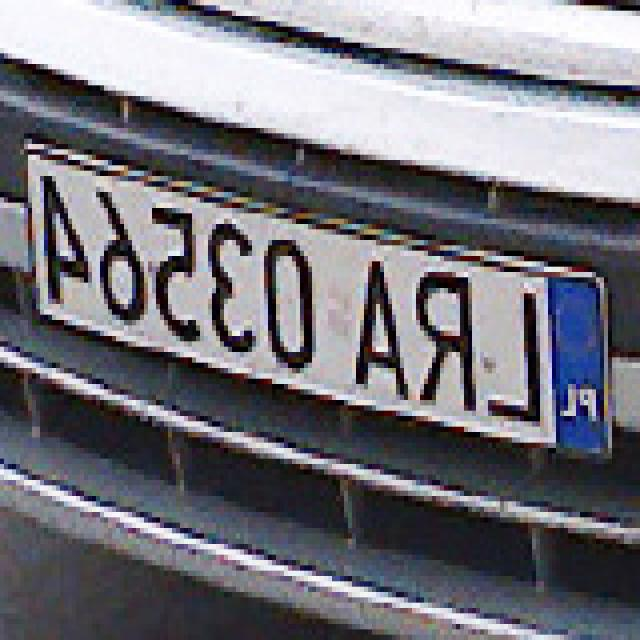pl_license_plate: (32, 138, 612, 458)
